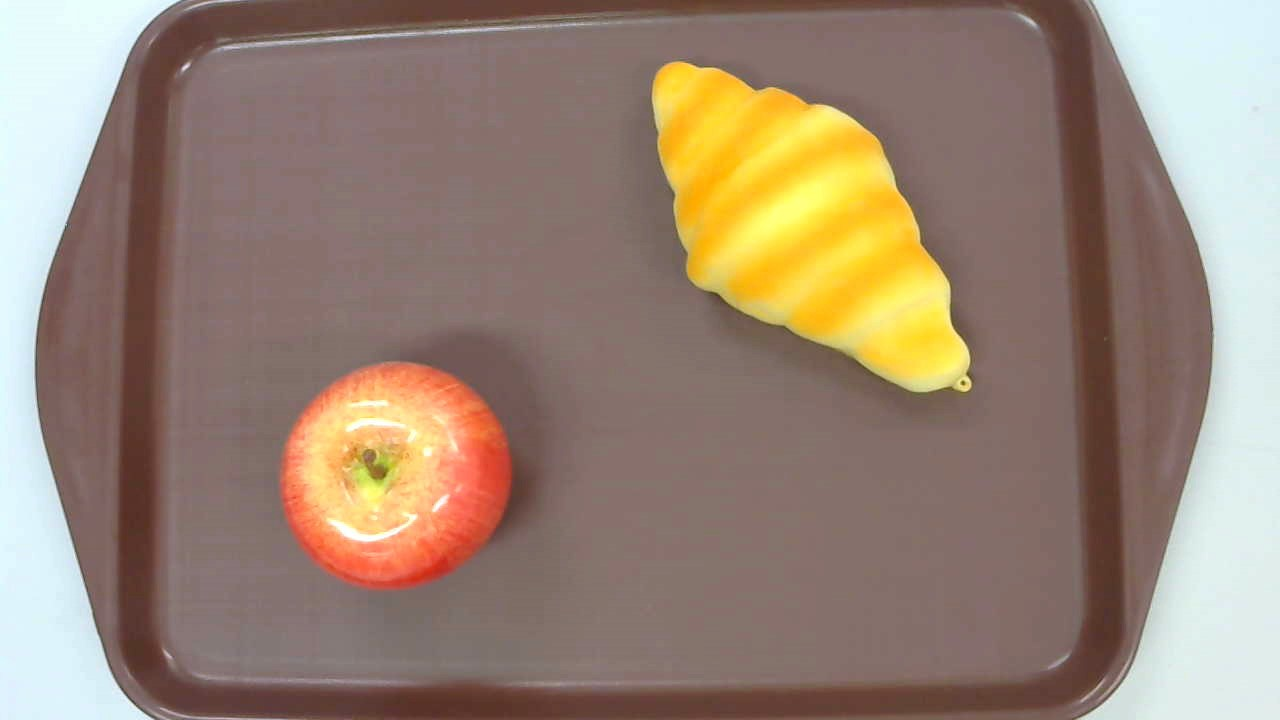croissant: (650, 61, 972, 393)
red apple: (279, 359, 511, 590)
